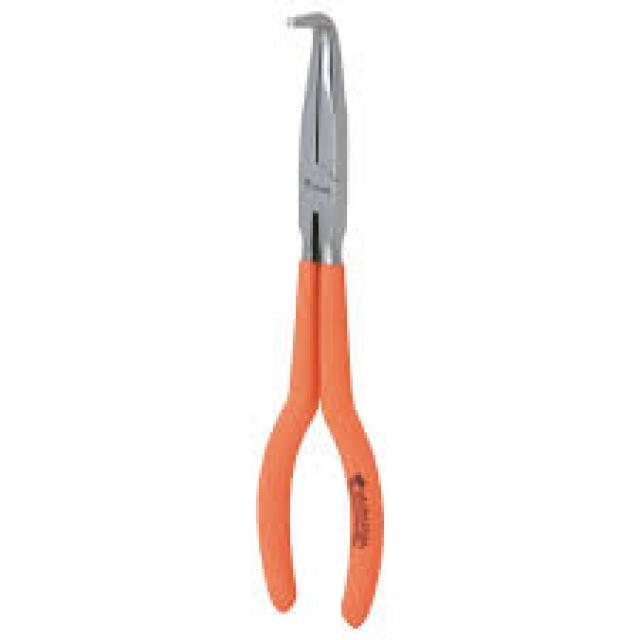pliers: (250, 4, 390, 634)
